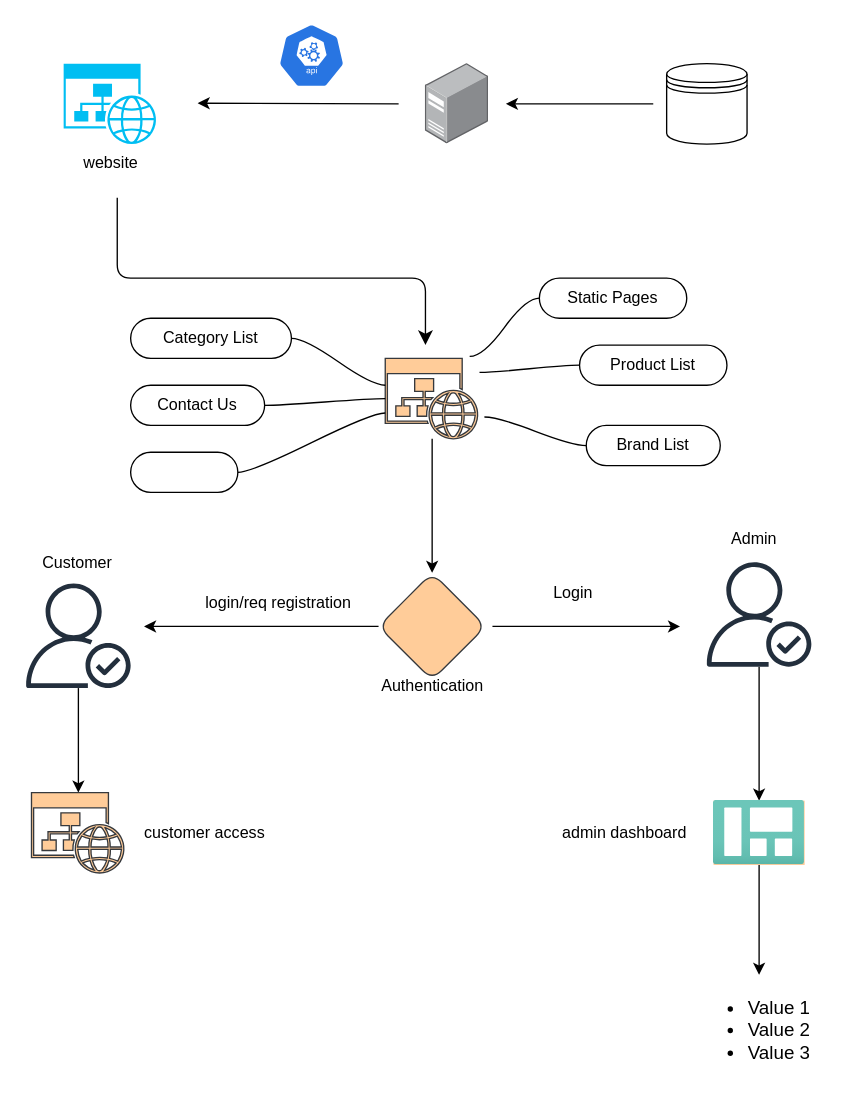
Image size: 848x1106. Some labels were removed from this diagram. Each missing label, with the box of its shape:
CART: (129, 451, 238, 492)
database: (665, 62, 747, 144)
server: (425, 63, 488, 143)
